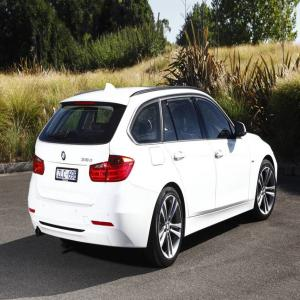Vehicle-registration-plate: (57, 168, 80, 183)
